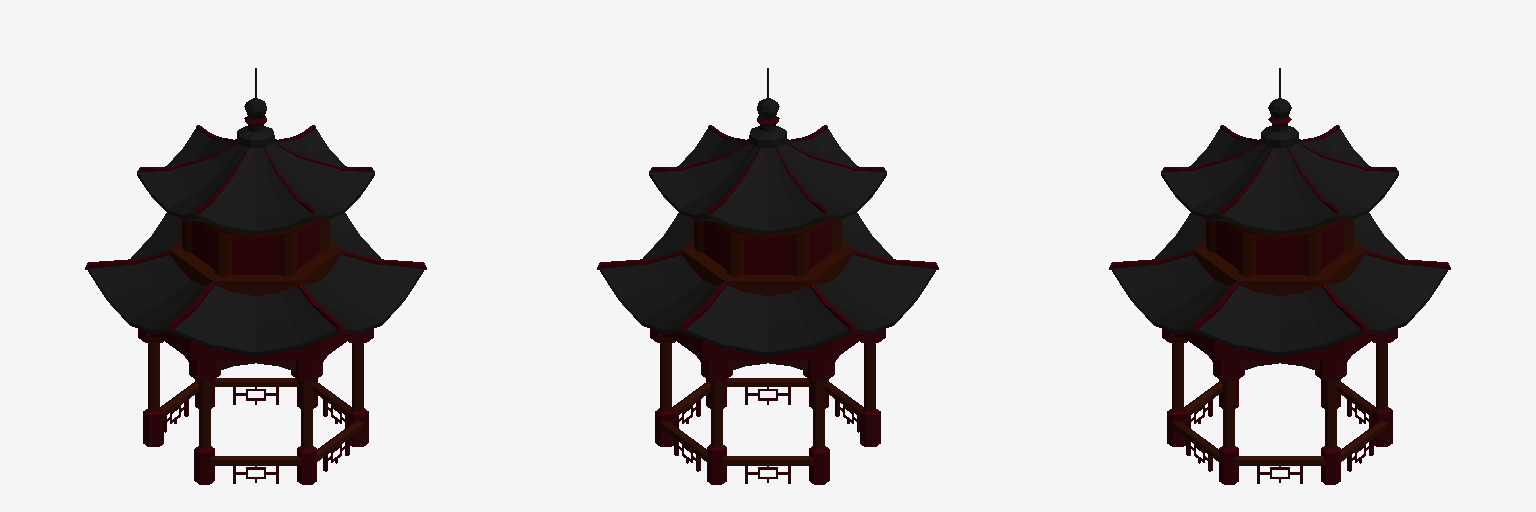
The model's file is Watchtower_A.obj.
3 renders of one model, left to right at view 1: azimuth 30°, elevation 25°; view 2: azimuth 150°, elevation 25°; view 3: azimuth 270°, elevation 25°, orthographic.
Parts seen in each view (by area): view 1: Watchtower_A; view 2: Watchtower_A; view 3: Watchtower_A.
Part boxes in pixels (bbox=[...]): Watchtower_A: bbox=[85, 68, 426, 484]; Watchtower_A: bbox=[597, 68, 938, 484]; Watchtower_A: bbox=[1109, 68, 1450, 484].
Size of the model in its own units: 15.01 by 20.83 by 17.19.